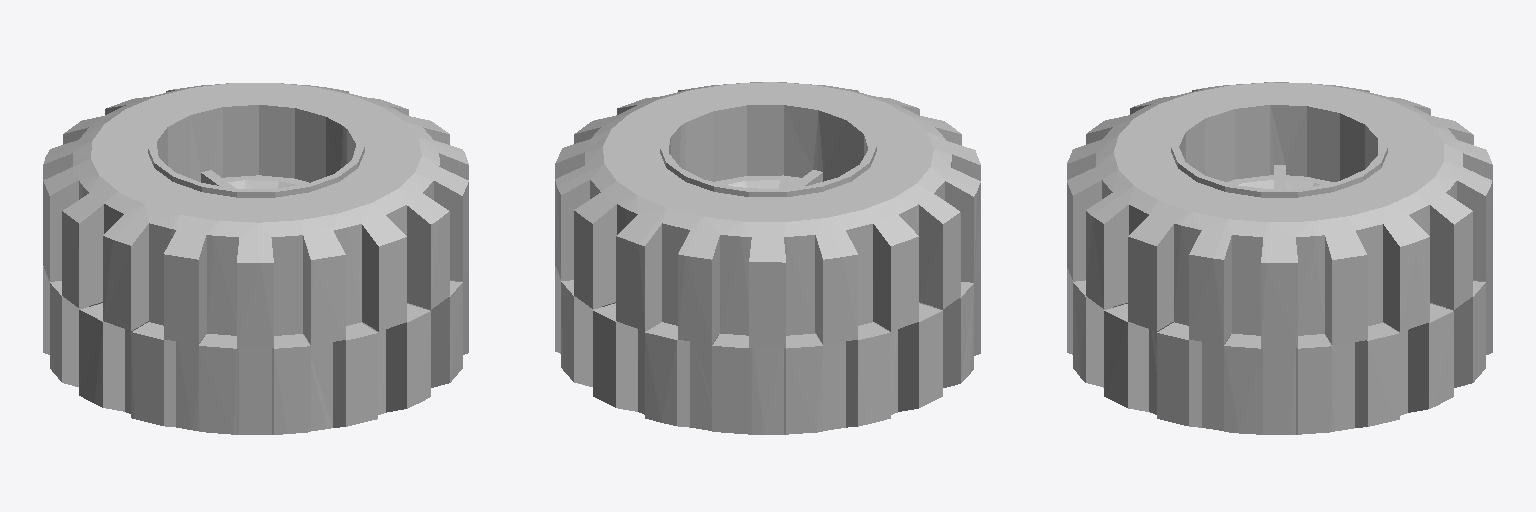
Rendered from Wheel_front-right.obj.
3 renders of one model, left to right at view 1: azimuth 30°, elevation 25°; view 2: azimuth 150°, elevation 25°; view 3: azimuth 270°, elevation 25°, orthographic.
Size of the model in its own units: 21.66 by 12.2 by 21.66.